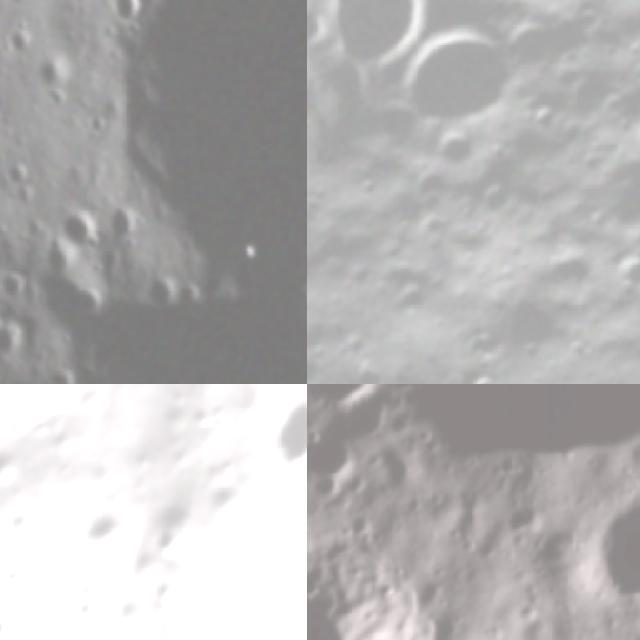crater: (89, 0, 307, 306), (336, 384, 640, 475), (389, 7, 534, 154), (307, 552, 448, 640), (67, 500, 150, 580), (594, 487, 640, 619), (247, 415, 307, 515), (33, 262, 105, 325), (334, 384, 410, 443), (307, 424, 366, 479), (56, 206, 105, 253), (36, 54, 76, 100), (495, 499, 547, 534), (146, 577, 186, 615), (141, 275, 178, 315), (103, 0, 146, 31), (0, 322, 25, 375), (107, 212, 143, 247), (0, 272, 33, 309), (70, 594, 104, 629), (0, 158, 31, 194), (4, 27, 31, 65), (456, 366, 512, 384), (0, 564, 28, 596), (43, 363, 80, 384), (0, 609, 22, 640), (211, 625, 256, 640), (473, 540, 501, 564), (0, 0, 32, 10)
